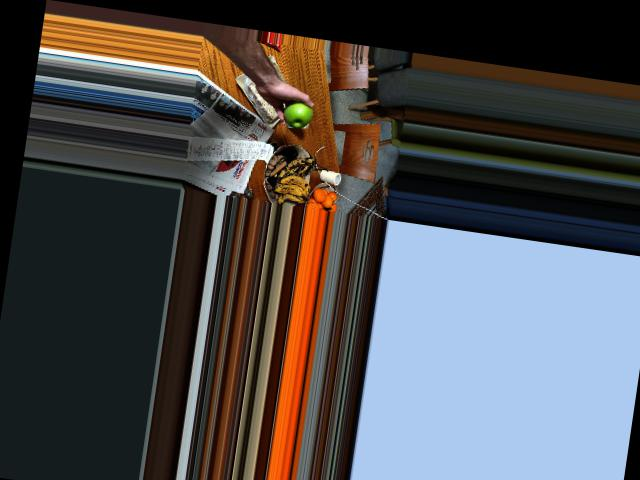apple: (279, 94, 316, 128)
